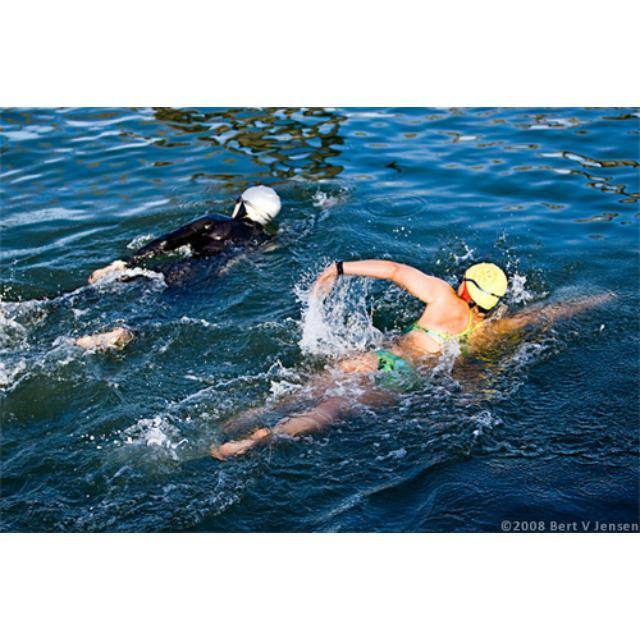human: (210, 251, 613, 460), (79, 180, 283, 356)
